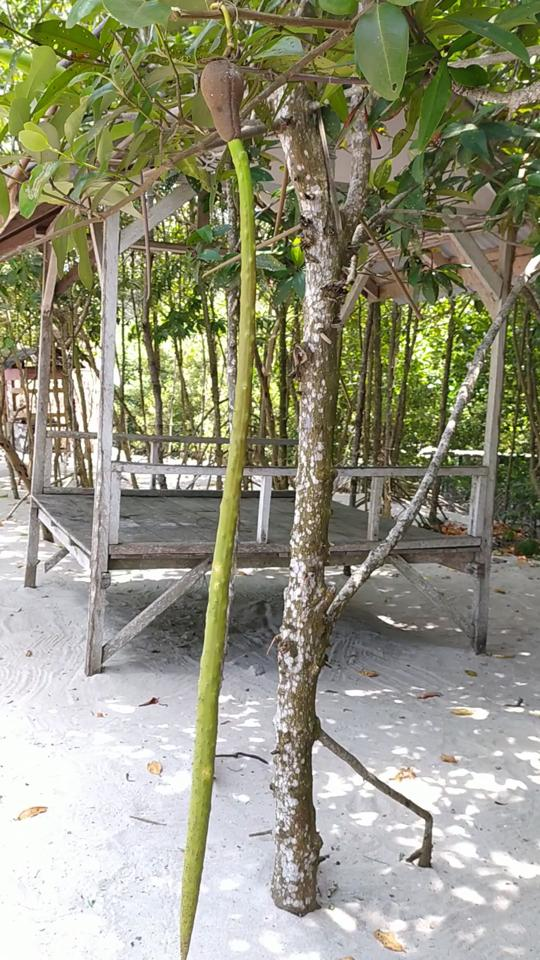mentah: (170, 40, 271, 959)
